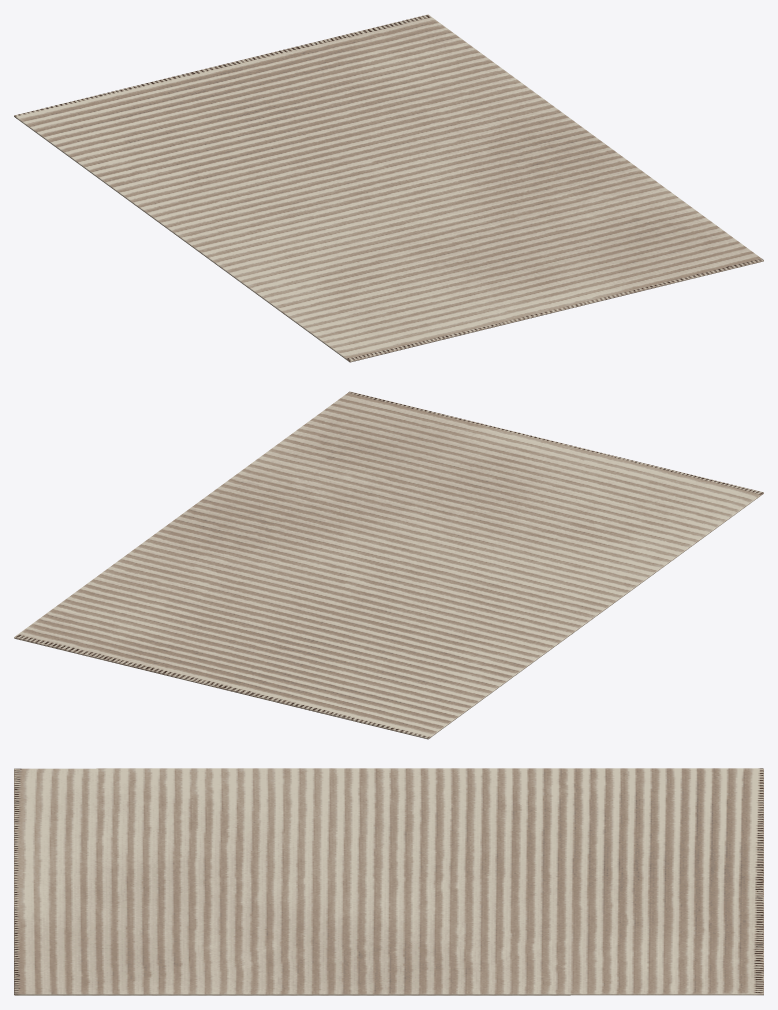
The model's file is tagspar_rug_high_pile_white_beige.glb.
3 renders of one model, top to bottom at view 1: azimuth 30°, elevation 25°; view 2: azimuth 150°, elevation 25°; view 3: azimuth 270°, elevation 25°, orthographic. The views are drawn at different scales.
Parts seen in each view (by area): view 1: G-10576351-TÃ…GSPÃ…R; view 2: G-10576351-TÃ…GSPÃ…R; view 3: G-10576351-TÃ…GSPÃ…R.
Part boxes in pixels (box(x1,y1,x2,y2)): G-10576351-TÃ…GSPÃ…R: box(14, 14, 763, 362); G-10576351-TÃ…GSPÃ…R: box(14, 391, 763, 739); G-10576351-TÃ…GSPÃ…R: box(14, 768, 763, 995).
Bounding box in the file's own units: 1.7 × 0.00597 × 2.39.
1 material, 1 textured.
